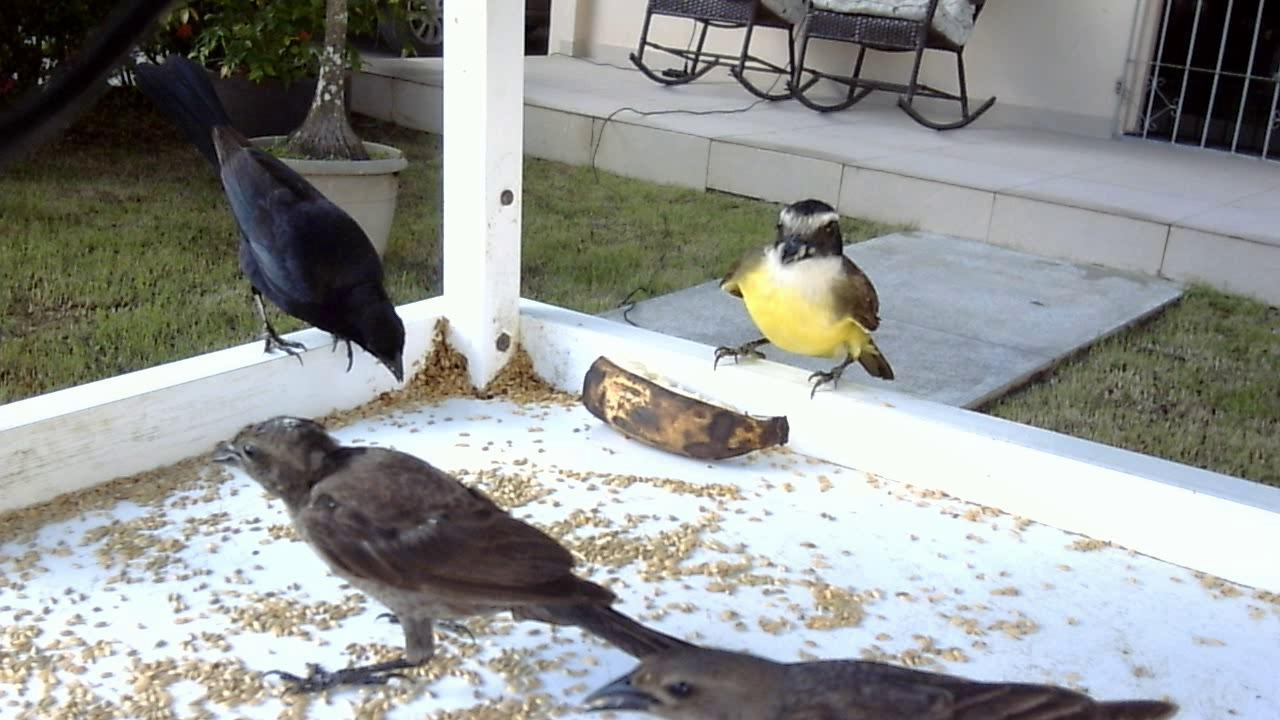bem_te_vi: (692, 190, 903, 411)
chupim: (215, 393, 714, 720), (572, 560, 1202, 720), (126, 64, 408, 390)
